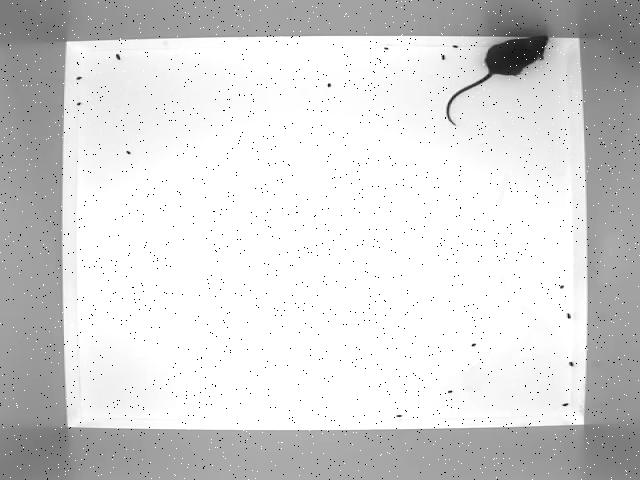Tikus: (444, 33, 550, 128)
